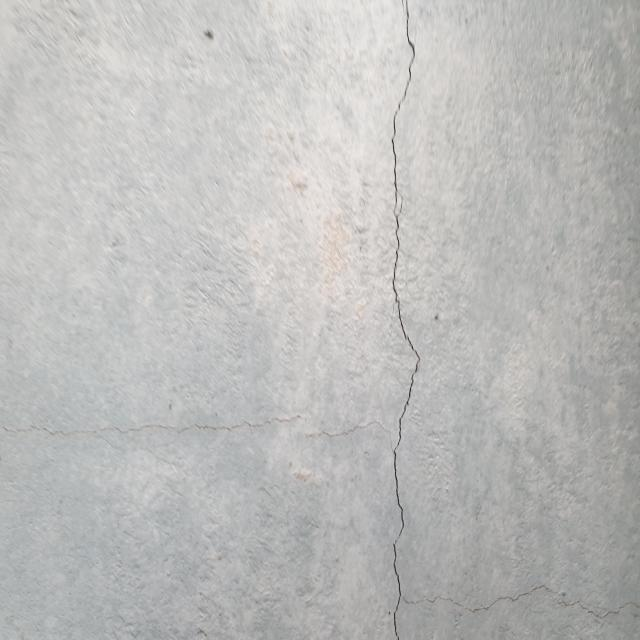SurfaceCrack: (345, 0, 460, 630), (398, 554, 639, 639)
